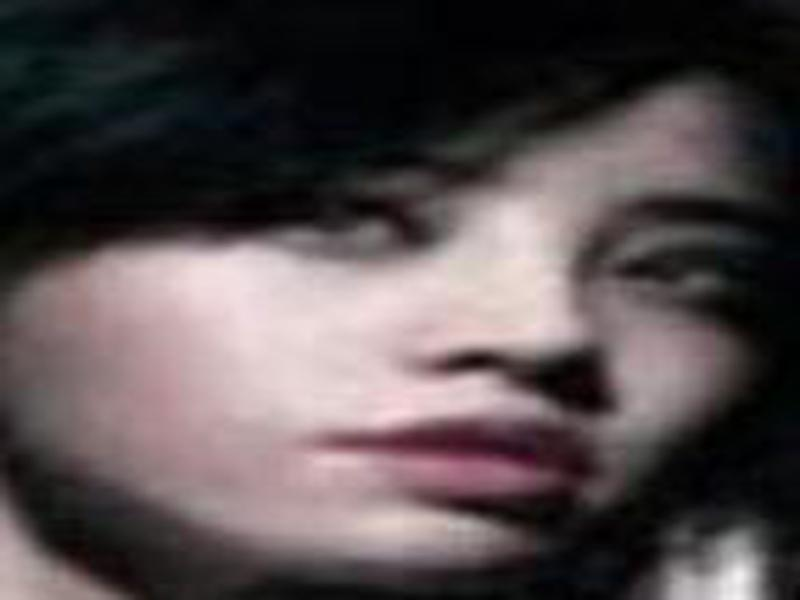without_mask: (17, 99, 761, 578)
